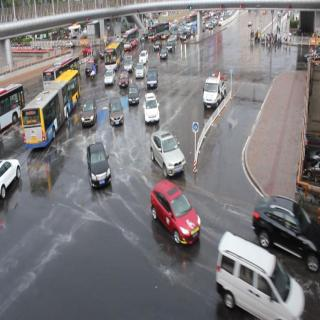BigCar: (21, 70, 80, 146), (44, 56, 85, 89), (103, 41, 125, 68)
Car: (212, 230, 310, 320), (251, 180, 320, 266), (149, 166, 201, 249), (144, 120, 190, 180), (0, 150, 24, 209), (198, 67, 229, 111), (85, 138, 112, 187), (106, 95, 130, 136), (139, 88, 160, 125), (83, 100, 97, 130), (126, 84, 144, 107), (148, 65, 160, 87), (118, 68, 130, 89), (104, 68, 115, 88), (139, 47, 150, 67), (86, 62, 100, 76), (134, 60, 143, 77), (161, 44, 168, 64)
